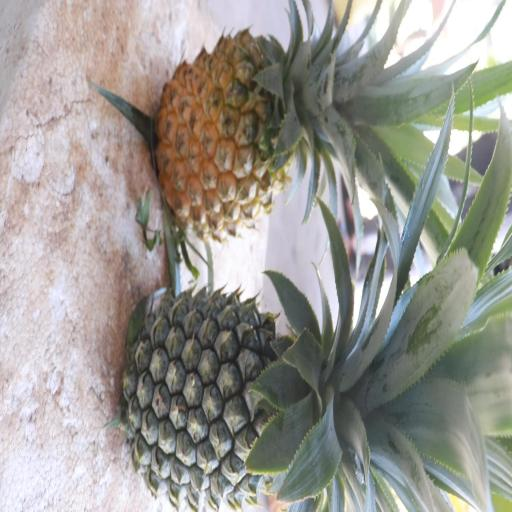Pineapple - v8 v1: (160, 23, 420, 224)
